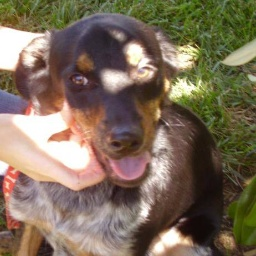dog: (20, 15, 223, 256)
